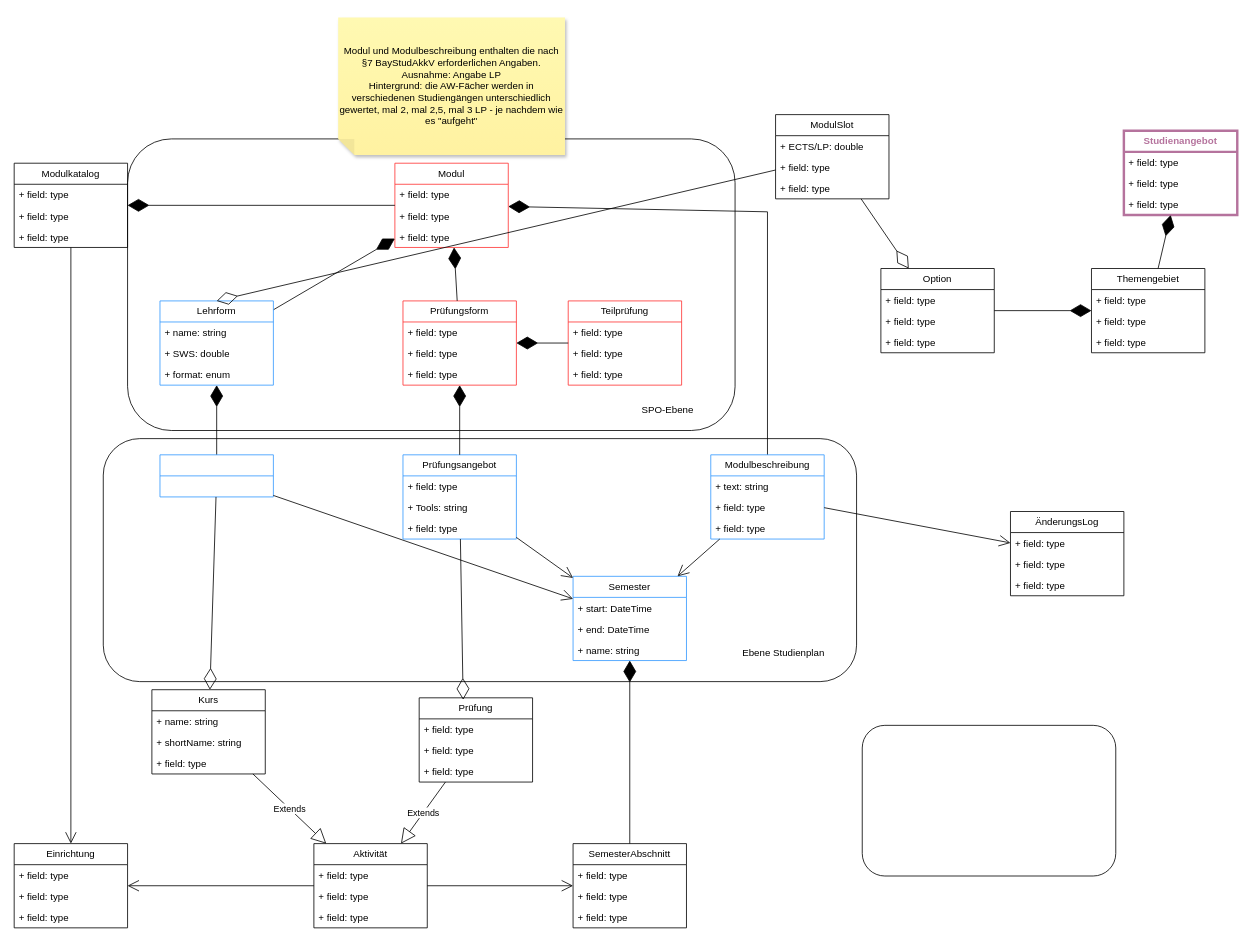
Image size: 1252x944. Some labels were removed from this diagram. The centre of each missing label's shape, as x and y in pixels:
Ebene Stndenlan: pixel 988 800
Lehrangebot: pixel 216 475
